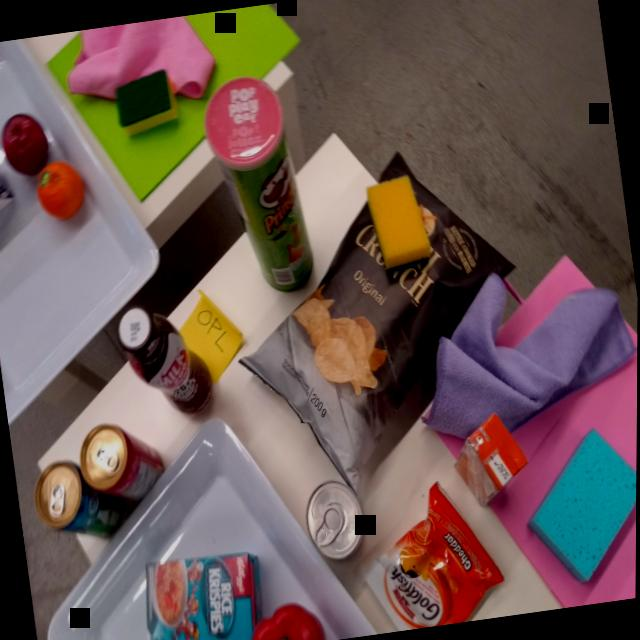cereal: (131, 539, 274, 640)
chocolate_drink: (109, 295, 225, 434)
cloth_opl: (400, 245, 639, 454)
coke: (73, 415, 171, 514), (0, 105, 55, 180)
crackers: (339, 469, 516, 637)
orange: (32, 157, 93, 229)
orange_juice: (443, 404, 536, 515)
paprika: (238, 596, 329, 640)
pringles: (195, 66, 324, 306)
sausages: (298, 474, 375, 568)
scrubby: (358, 169, 437, 274), (110, 67, 183, 142)
sponge_opl: (513, 420, 638, 595)
sprite: (28, 448, 134, 556)
